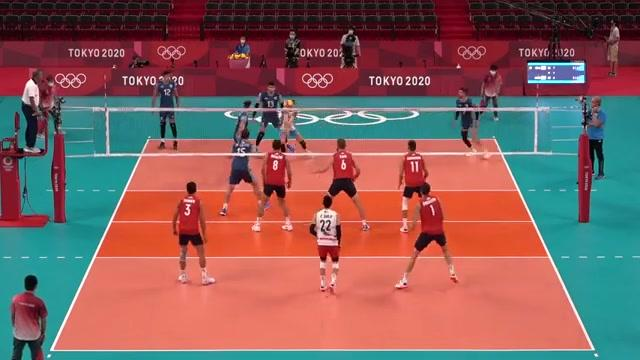ball: (281, 99, 297, 111)
